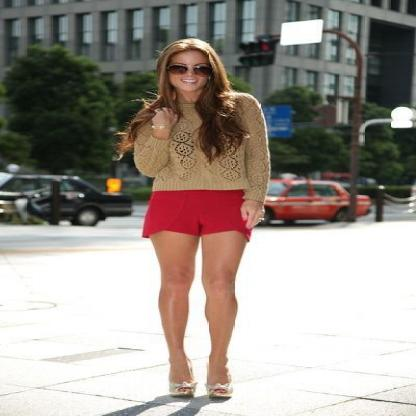jacket: (118, 75, 286, 207)
shoe: (162, 377, 194, 404)
shorts: (142, 190, 250, 250)
